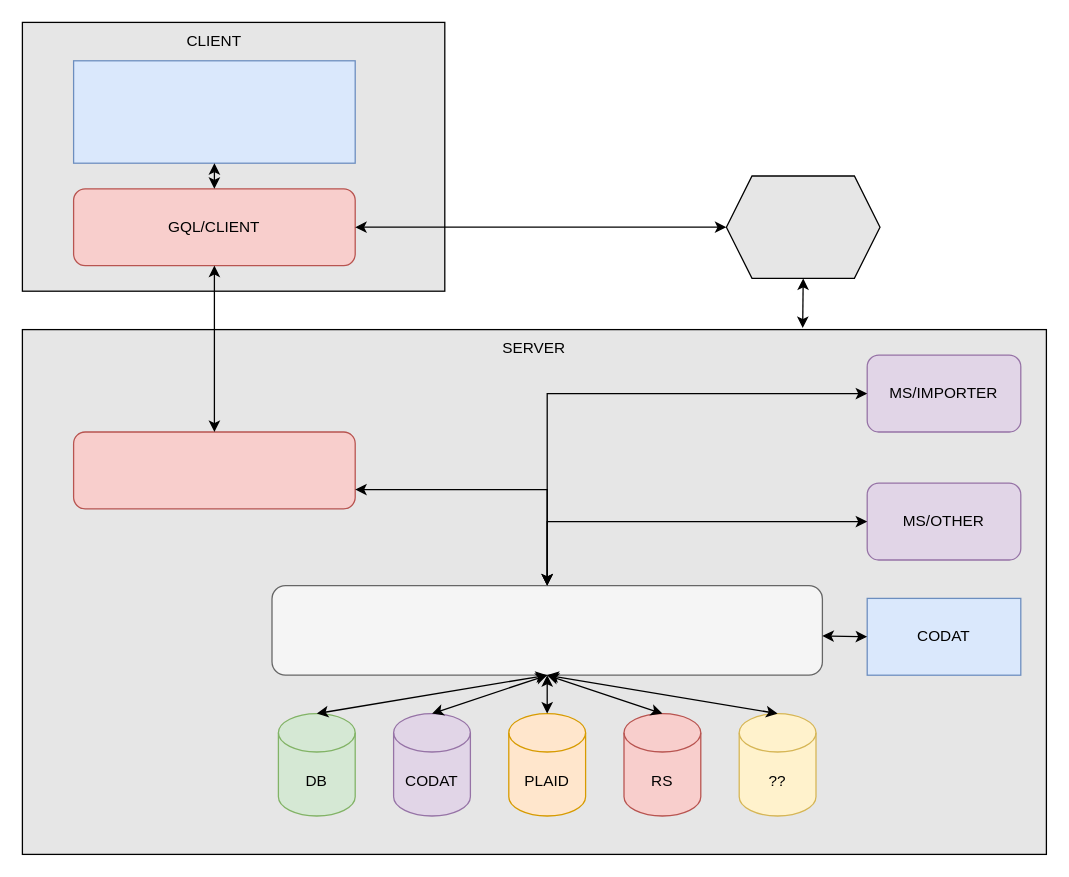
This 1069x877 diagram has some shape labels left out. The shapes that lost their labels are listed below. From the top down, each one's centre as x and y in pixels, then its label:
At (213,111): "REACT APP".
At (802,226): "AWS/QUEUE".
At (213,470): "GQL/SERVER".
At (546,629): "ORM/API".
